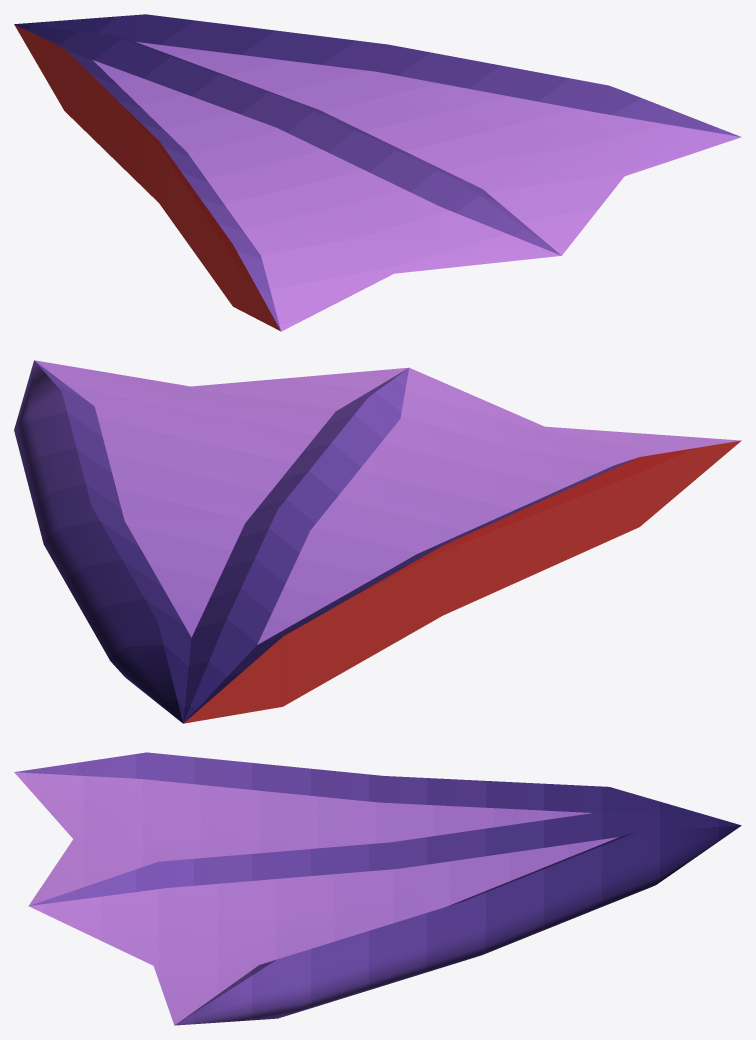
File: Batwing_forearm_Adjusted.fbx
The picture shows the model from 3 angles, top to bottom: view 1: azimuth 30°, elevation 25°; view 2: azimuth 150°, elevation 25°; view 3: azimuth 270°, elevation 25°; orthographic projection. The views are drawn at different scales.
Parts seen in each view (by area): view 1: Batwing_forearm_Adjusted; view 2: Batwing_forearm_Adjusted; view 3: Batwing_forearm_Adjusted.
Boxes of the visible parts, x1,y1,x2,y2 form: Batwing_forearm_Adjusted: (14, 14, 741, 331); Batwing_forearm_Adjusted: (14, 360, 741, 723); Batwing_forearm_Adjusted: (14, 752, 741, 1025).
Bounding box in the file's own units: 11.04 × 1.21 × 13.41.
